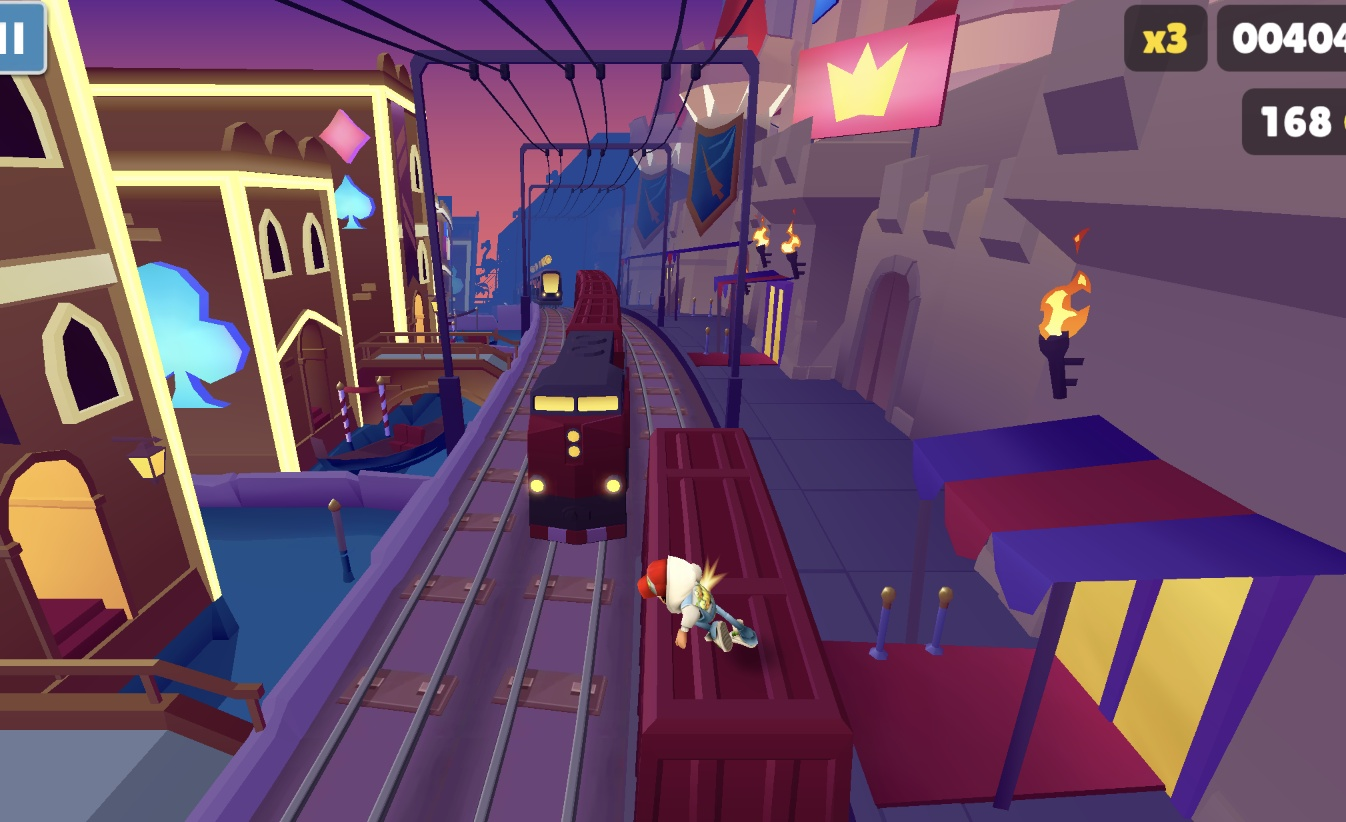train: (634, 428, 858, 822), (526, 329, 631, 545), (570, 270, 626, 367), (537, 270, 565, 310)
